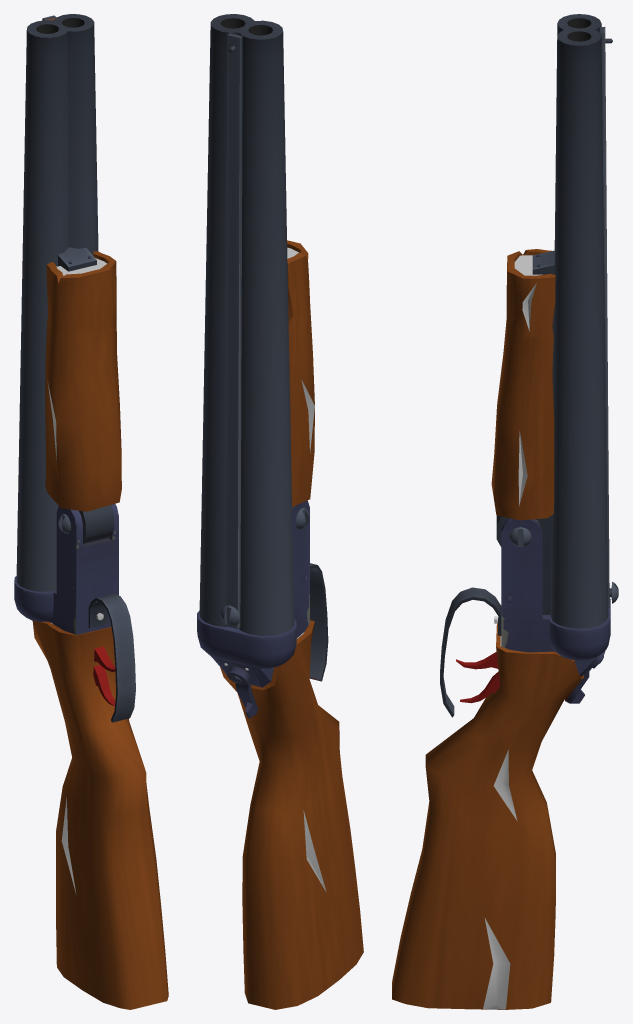
Rendered from DB_Preview.fbx.
The picture shows the model from 3 angles, left to right: view 1: azimuth 30°, elevation 25°; view 2: azimuth 150°, elevation 25°; view 3: azimuth 270°, elevation 25°; orthographic projection. The views are drawn at different scales.
Parts seen in each view (by area): view 1: char_spudgun_base.005; view 2: char_spudgun_base.005; view 3: char_spudgun_base.005.
Part boxes in pixels (x1,y1,x2,y2): char_spudgun_base.005: [14, 14, 168, 1009]; char_spudgun_base.005: [197, 14, 363, 1009]; char_spudgun_base.005: [392, 14, 618, 1009].
Bounding box in the file's own units: 0.431 × 4.47 × 0.9472.
